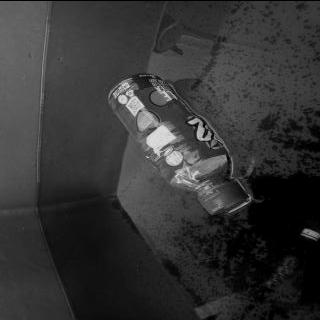bottle: (104, 70, 250, 214)
